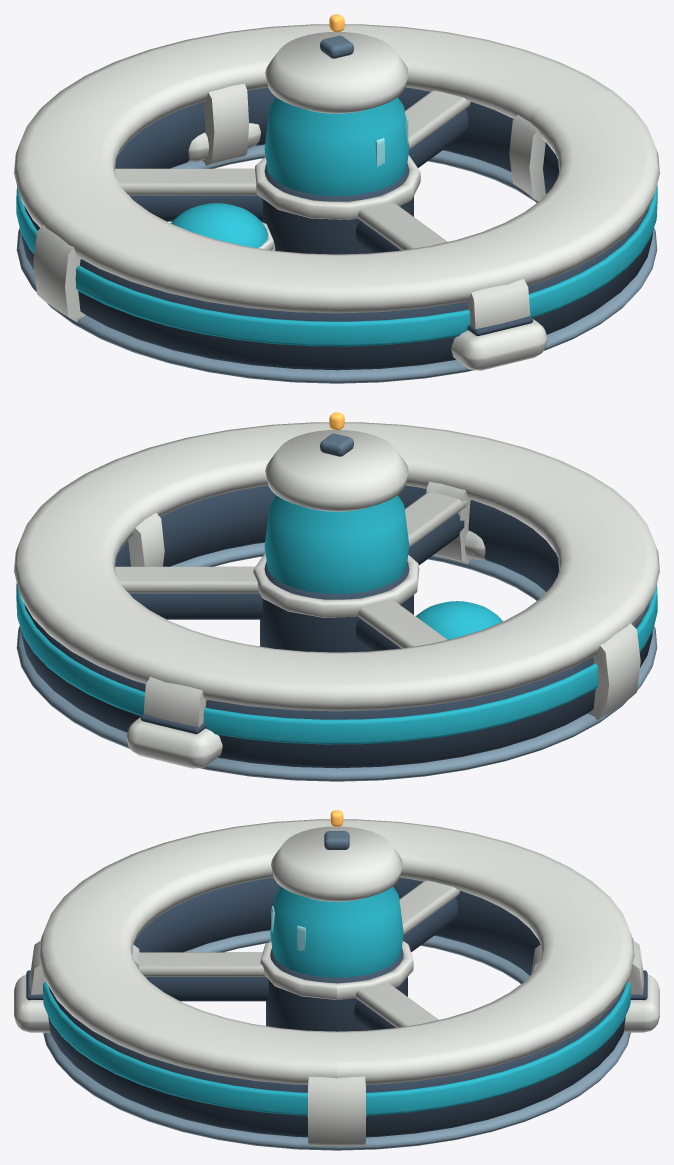
The model's file is colony_ring_lv3.glb.
The picture shows the model from 3 angles, top to bottom: view 1: azimuth 30°, elevation 25°; view 2: azimuth 150°, elevation 25°; view 3: azimuth 270°, elevation 25°; orthographic projection. The views are drawn at different scales.
Parts seen in each view (by area): view 1: Structure; view 2: Structure; view 3: Structure.
Boxes of the visible parts, <box> form: Structure: <box>14,14,659,383</box>; Structure: <box>14,412,659,781</box>; Structure: <box>14,810,659,1150</box>.
Size of the model in its own units: 8.67 by 3.7 by 9.1.
